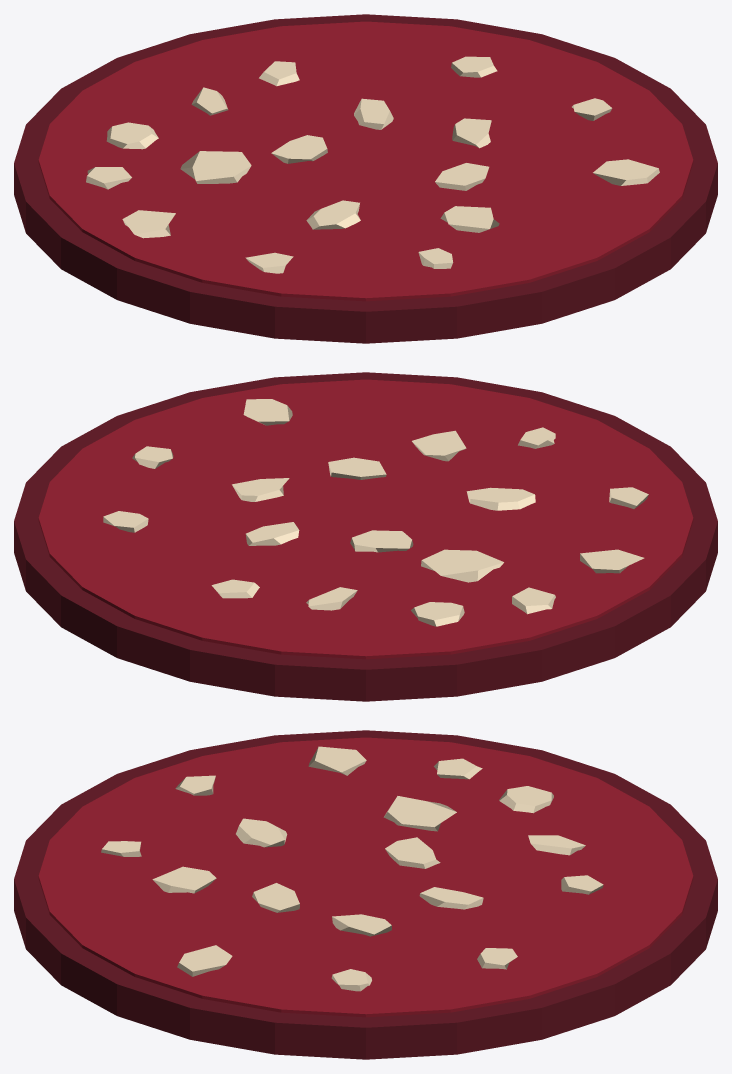
The model's file is Salami.fbx.
3 renders of one model, top to bottom at view 1: azimuth 30°, elevation 25°; view 2: azimuth 150°, elevation 25°; view 3: azimuth 270°, elevation 25°, orthographic.
Visible parts, largest first — view 1: Meat, Casing, Fat; view 2: Meat, Casing, Fat; view 3: Meat, Casing, Fat.
Boxes of the visible parts, x1,y1,x2,y2 form: Meat: (38, 21, 693, 301); Casing: (14, 14, 717, 343); Fat: (86, 56, 659, 273); Meat: (38, 379, 693, 659); Casing: (14, 372, 717, 701); Fat: (103, 399, 648, 626); Meat: (38, 737, 693, 1017); Casing: (14, 730, 717, 1059); Fat: (101, 746, 603, 991).
Size of the model in its own units: 2 by 0.125 by 2.
